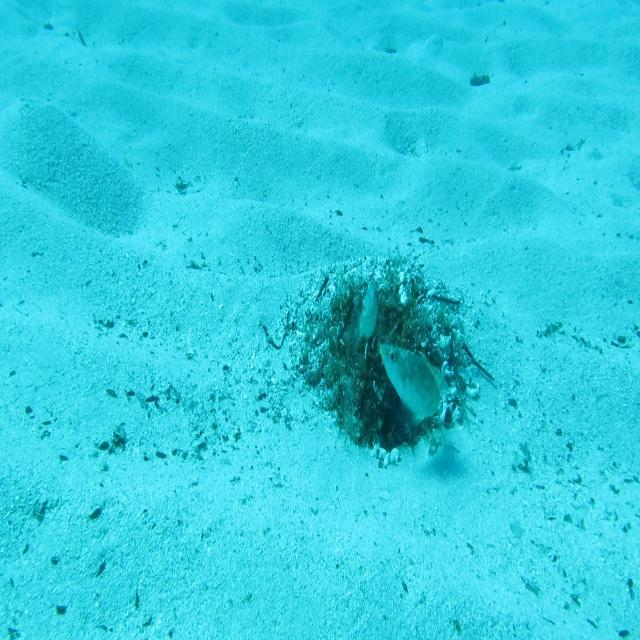BEND: (379, 341, 450, 428)
female: (346, 283, 379, 359)
nest: (279, 240, 486, 483)
vegetation: (467, 73, 495, 90)
